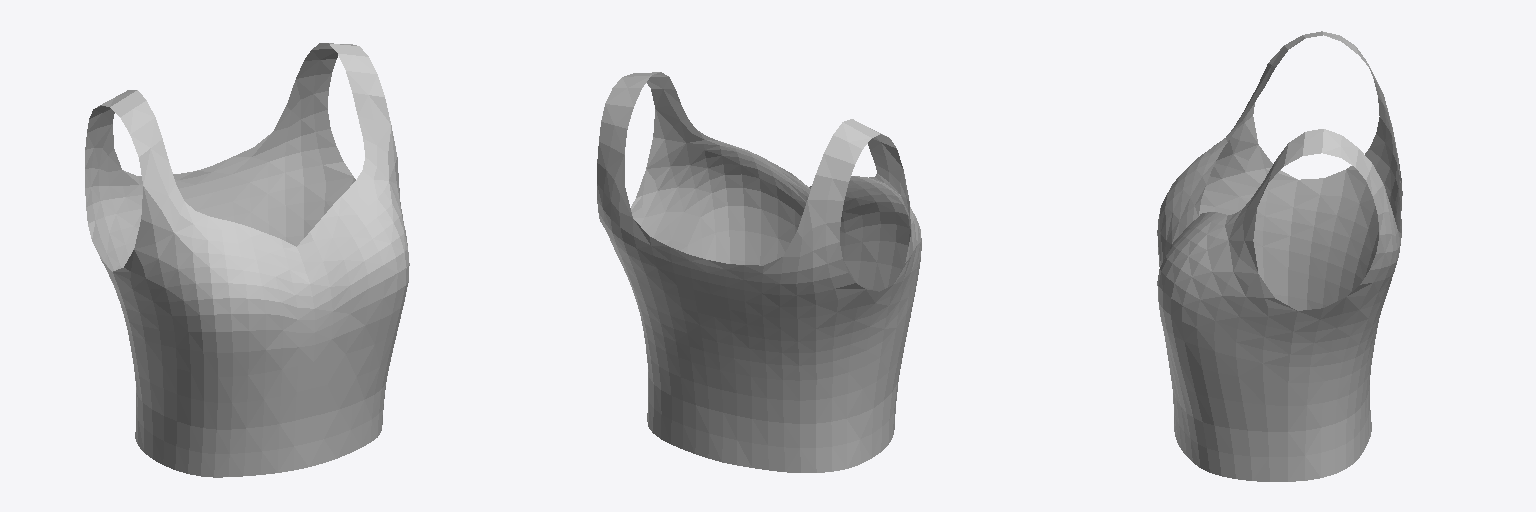
Rendered from 4_bodicesweetheart.obj.
3 renders of one model, left to right at view 1: azimuth 30°, elevation 25°; view 2: azimuth 150°, elevation 25°; view 3: azimuth 270°, elevation 25°, orthographic.
Parts seen in each view (by area): view 1: bodicefrontleft, bodicefrontright, bodicebackright, bodicebackleft, bodiceback, object_7; view 2: bodicebackleft, bodiceback, bodicefrontleft, object_7, bodicebackright, bodicefrontright; view 3: object_7, bodicebackright, bodicebackleft, bodicefrontleft, bodicefrontright, bodiceback.
Boxes of the visible parts, x1,y1,x2,y2 form: bodicefrontleft: [110, 90, 314, 477]; bodicefrontright: [297, 180, 406, 466]; bodicebackright: [268, 43, 356, 246]; bodicebackleft: [85, 90, 143, 451]; bodiceback: [122, 132, 272, 234]; object_7: [330, 44, 409, 437]; bodicebackleft: [779, 122, 893, 472]; bodiceback: [633, 219, 784, 471]; bodicefrontleft: [809, 119, 921, 457]; object_7: [624, 72, 729, 263]; bodicebackright: [597, 75, 671, 443]; bodicefrontright: [719, 141, 810, 265]; object_7: [1171, 129, 1323, 481]; bodicebackright: [1288, 129, 1398, 481]; bodicebackleft: [1288, 31, 1399, 310]; bodicefrontleft: [1157, 31, 1322, 304]; bodicefrontright: [1157, 212, 1226, 467]; bodiceback: [1360, 164, 1402, 455].
Size of the model in its own units: 11.94 by 14.71 by 9.42.